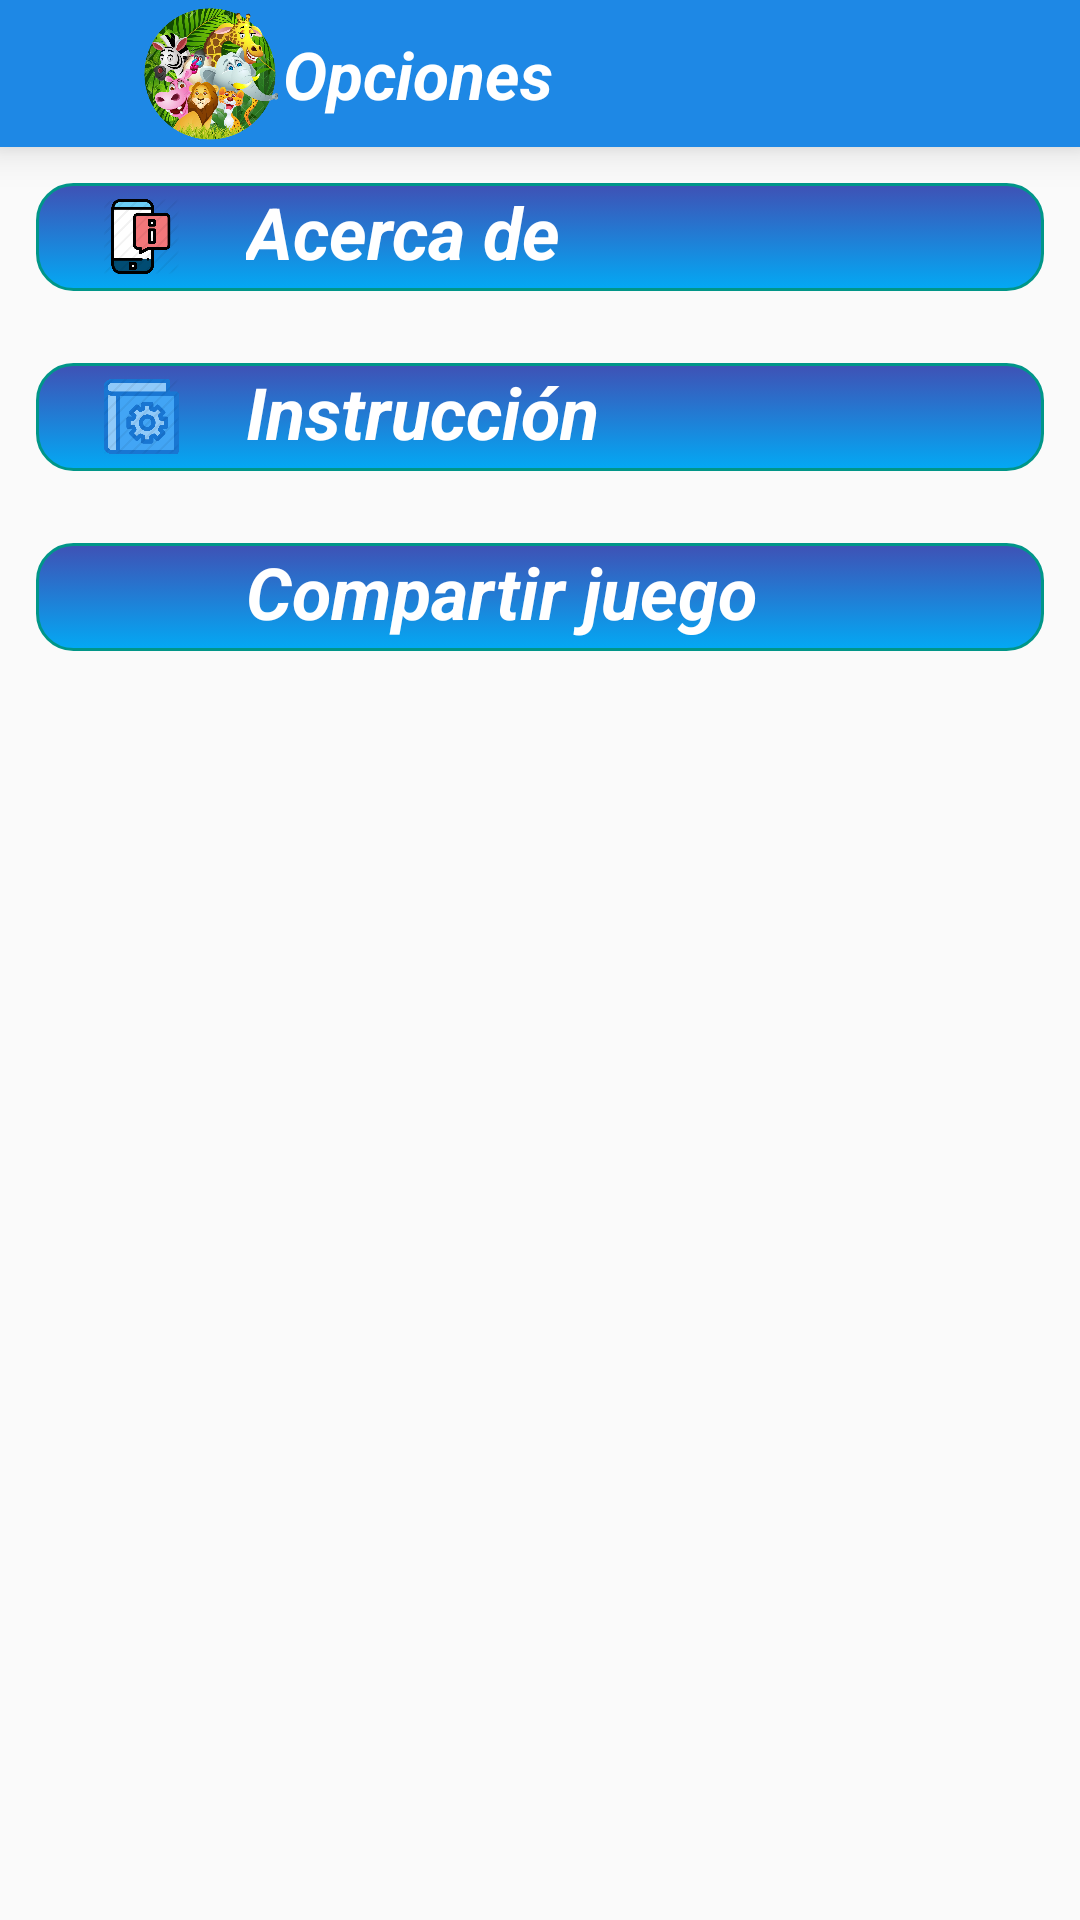

Screen size 1080px×1920px. Icon name, then its center in pixels as [x,y]:
animal: [211,74]
